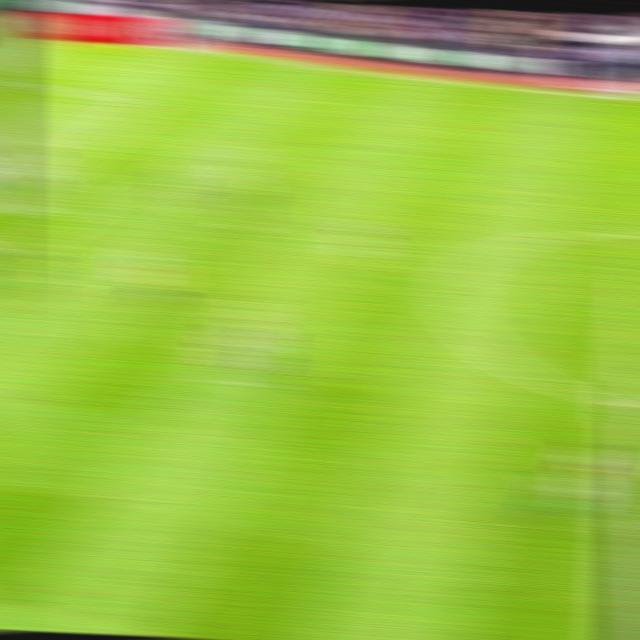bigarea_top_inner: (124, 92, 164, 114)
corner: (4, 12, 49, 30)
halfcircle_bottom: (604, 382, 640, 426)
halfcircle_top: (620, 219, 640, 250)
top_arc_area_intersection: (48, 152, 86, 173)
